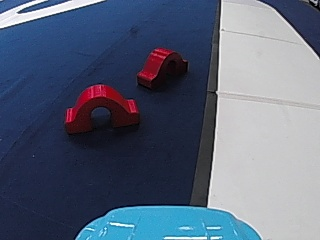bridge: (59, 80, 141, 131), (135, 44, 188, 91)
